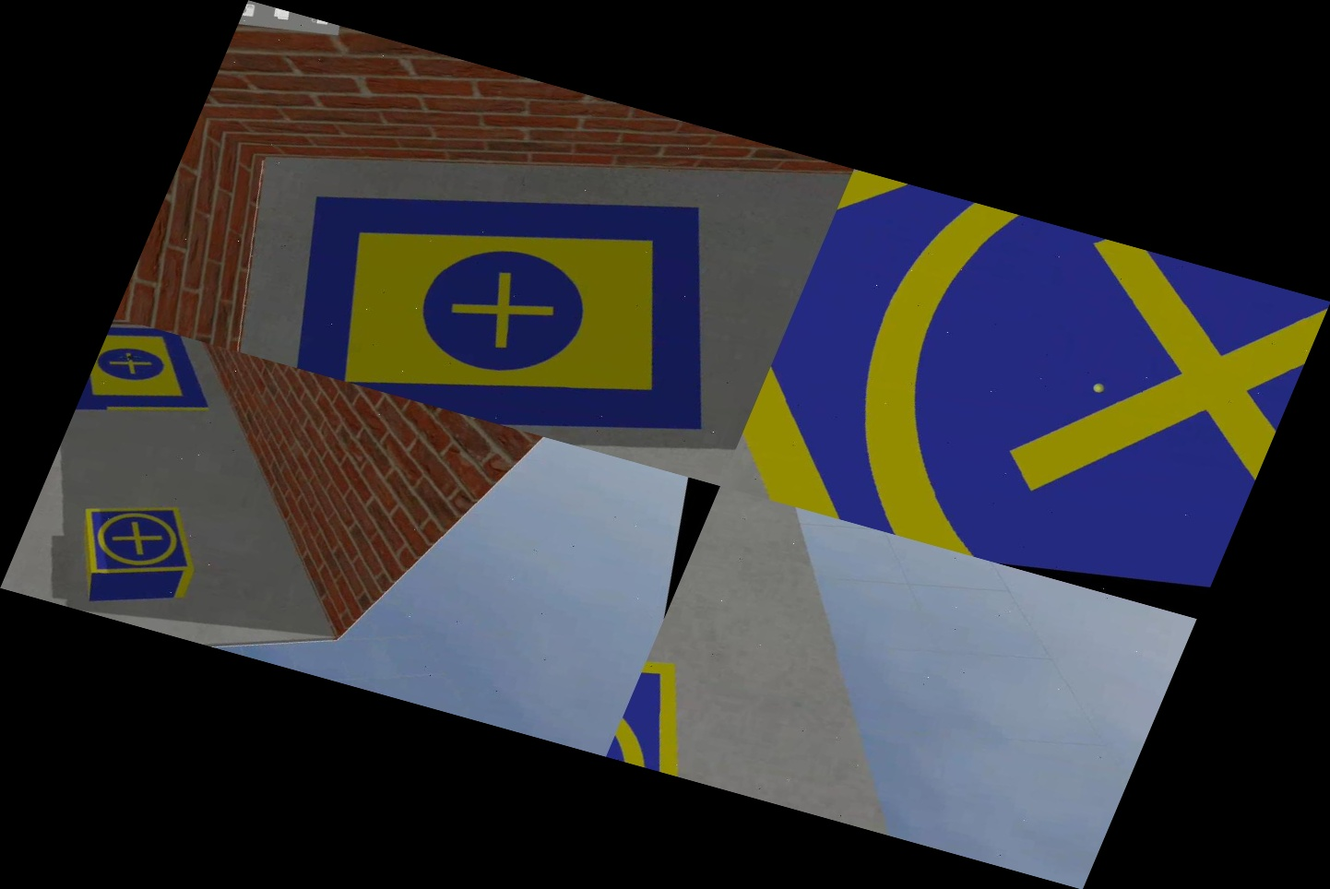large_base: (240, 100, 801, 479), (76, 317, 235, 443)
small_base: (719, 169, 1330, 619), (54, 479, 227, 610)
